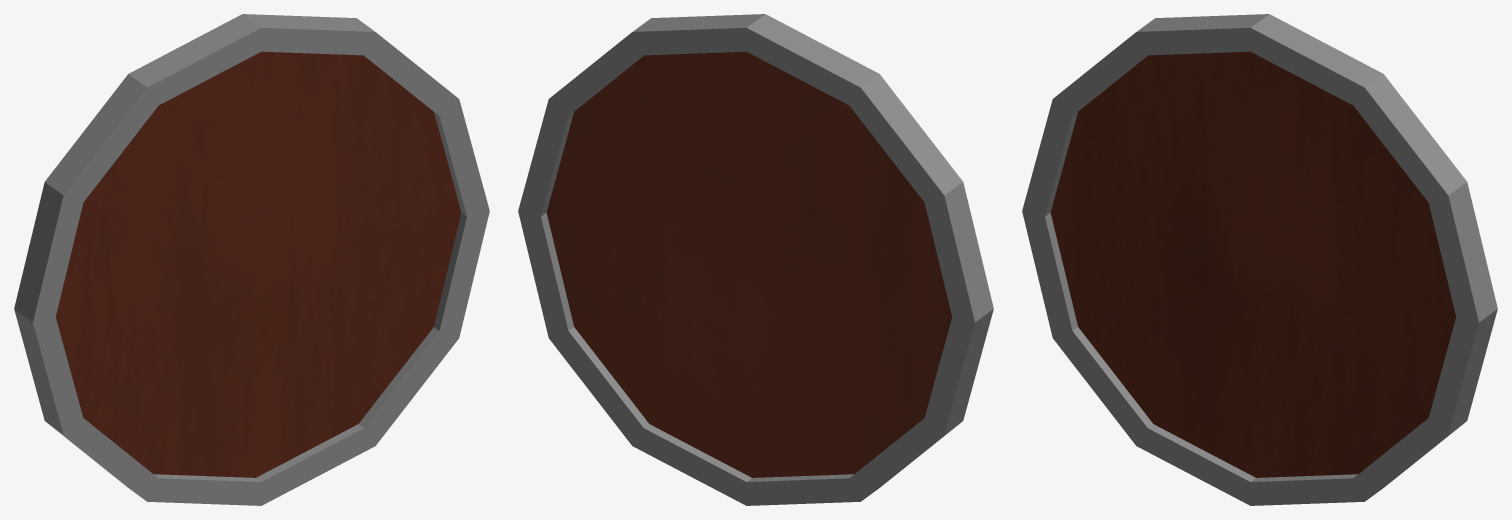
Rendered from Shield.fbx.
The picture shows the model from 3 angles, left to right: view 1: azimuth 30°, elevation 25°; view 2: azimuth 150°, elevation 25°; view 3: azimuth 330°, elevation 25°; orthographic projection.
Visible parts, largest first — view 1: pCylinder3; view 2: pCylinder3; view 3: pCylinder3.
Boxes of the visible parts, left/top/right/bottom form: pCylinder3: left=14, top=14, right=489, bottom=505; pCylinder3: left=518, top=14, right=993, bottom=505; pCylinder3: left=1022, top=14, right=1497, bottom=505.
Size of the model in its own units: 70 by 70 by 8.39.
